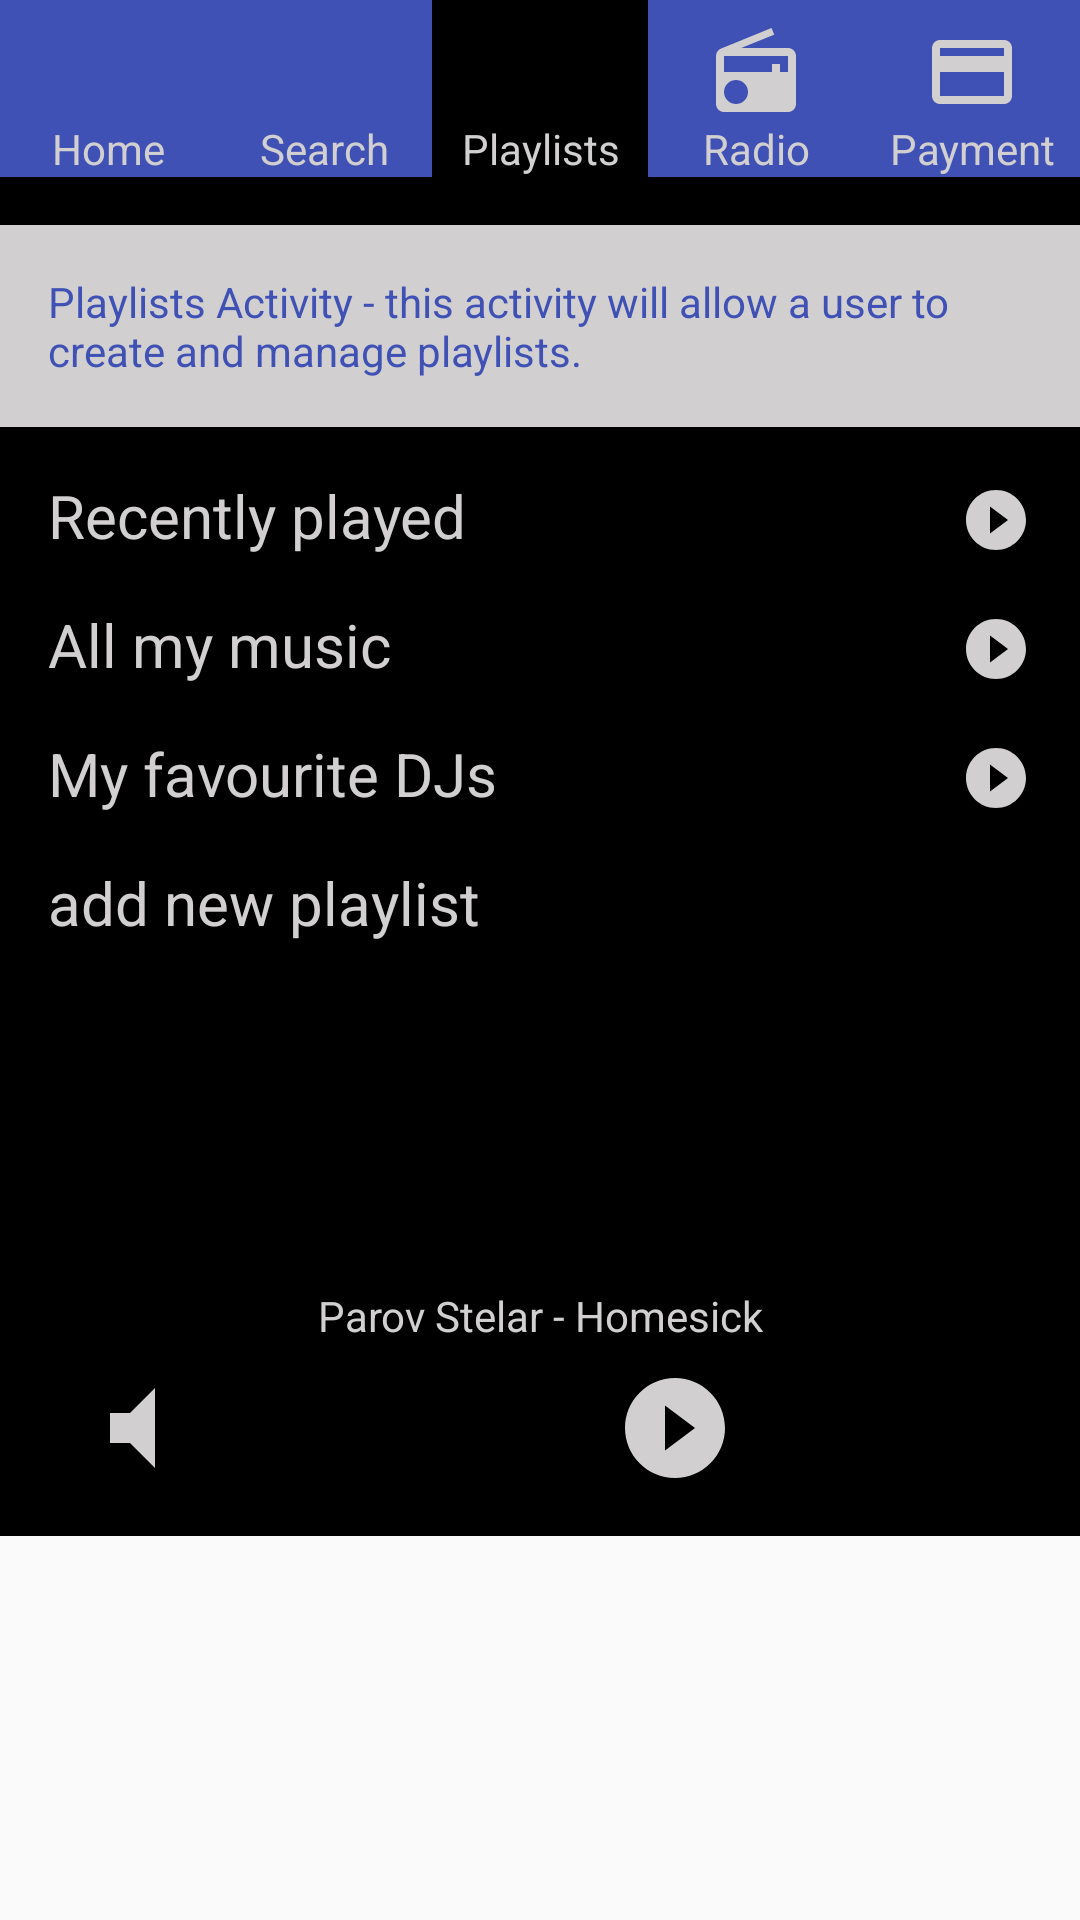

Icon bounding boxes for this 1080px x 1920px phone screenshot, format (x1, y1, x2, y2):
credit card: (932, 40, 1012, 104)
play circle: (966, 490, 1026, 550), (966, 619, 1026, 679), (966, 748, 1026, 808), (625, 1378, 725, 1478)
volume mute: (110, 1388, 155, 1468)
